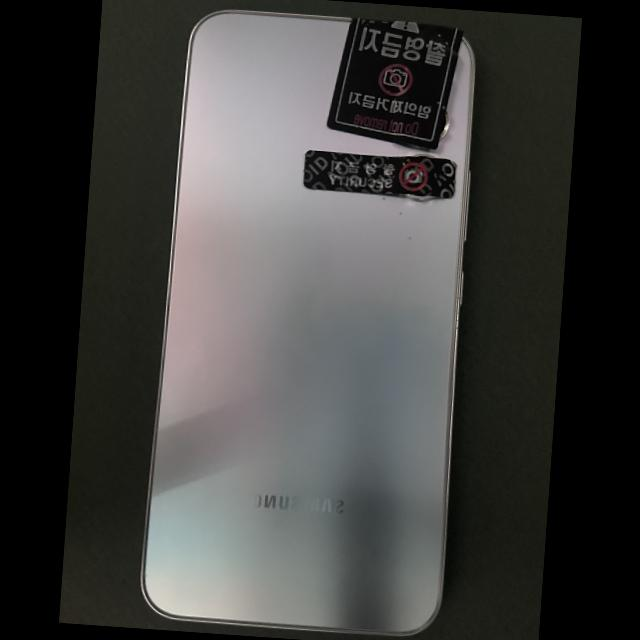lens: (437, 109, 449, 141), (407, 195, 432, 201)
phone: (142, 12, 473, 634)
sticker: (327, 19, 461, 149), (303, 151, 455, 198)
